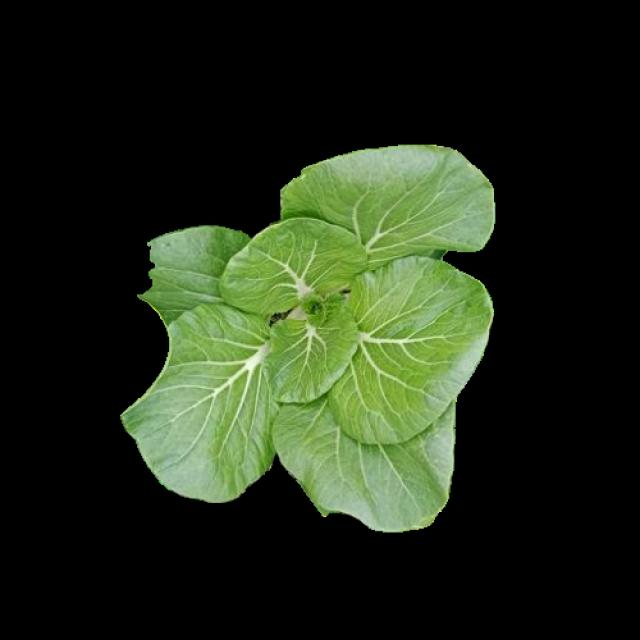healthy: (126, 146, 492, 530)
mature: (128, 148, 494, 532)
